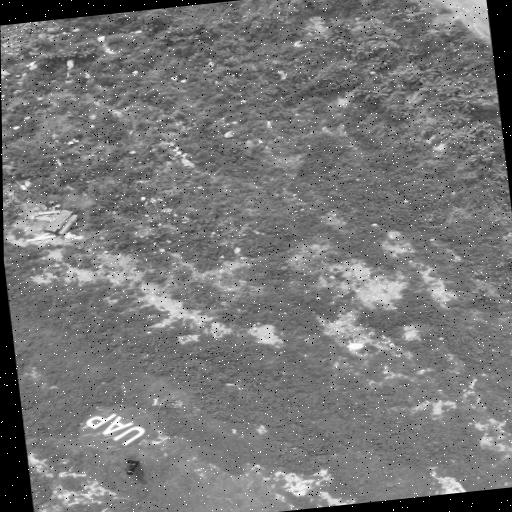person: (124, 460, 141, 475)
uap: (77, 407, 151, 450)
